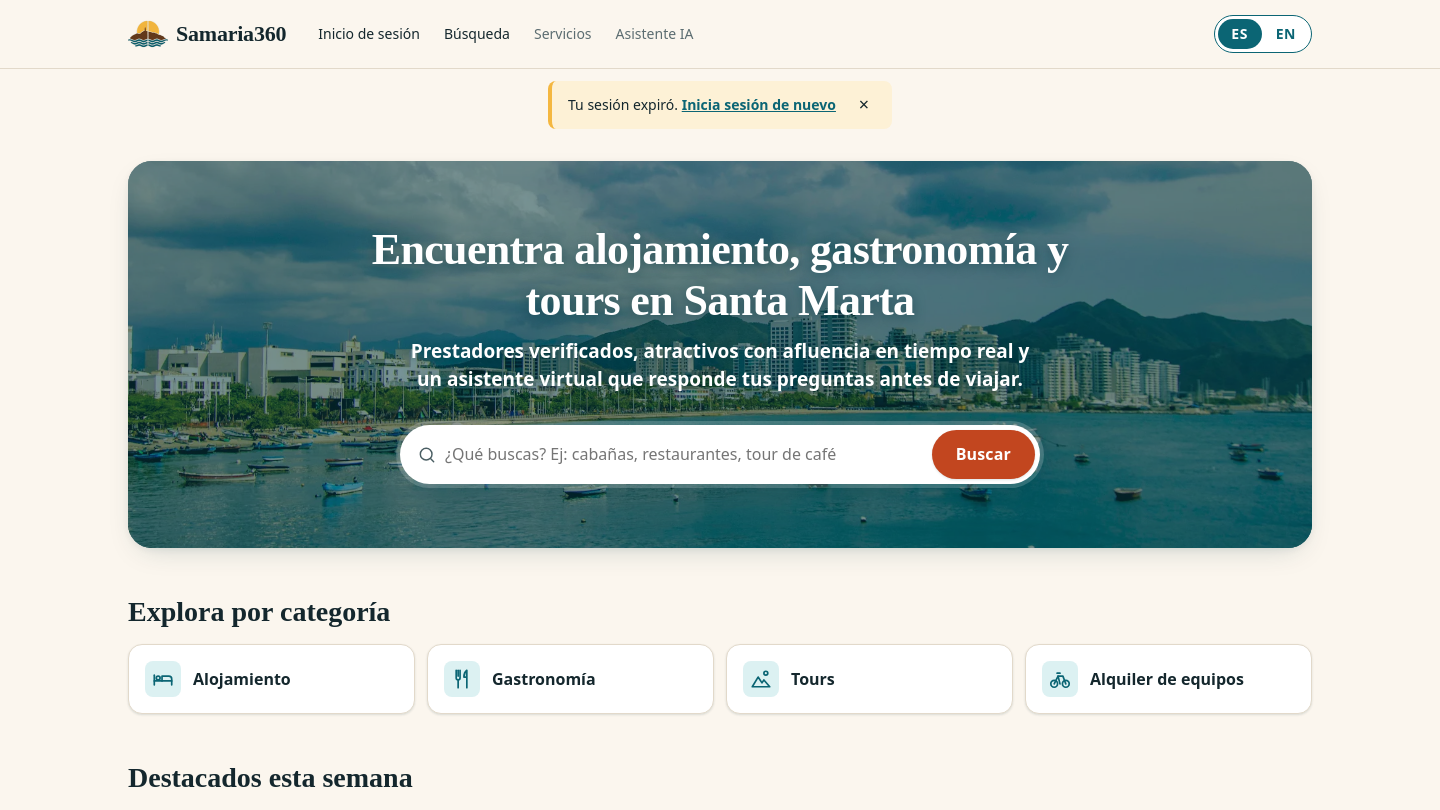
Test case: Sesión › un 401 de /me en una página pública cierra la sesión y avisa sin sacar al usuario
Expected: the text "Tu sesión expiró. Inicia sesión de nuevo ×" is shown, [548,81,892,129]
Step 1. Click the button named "Cerrar aviso" → click(864, 105), box [848,89,880,121]
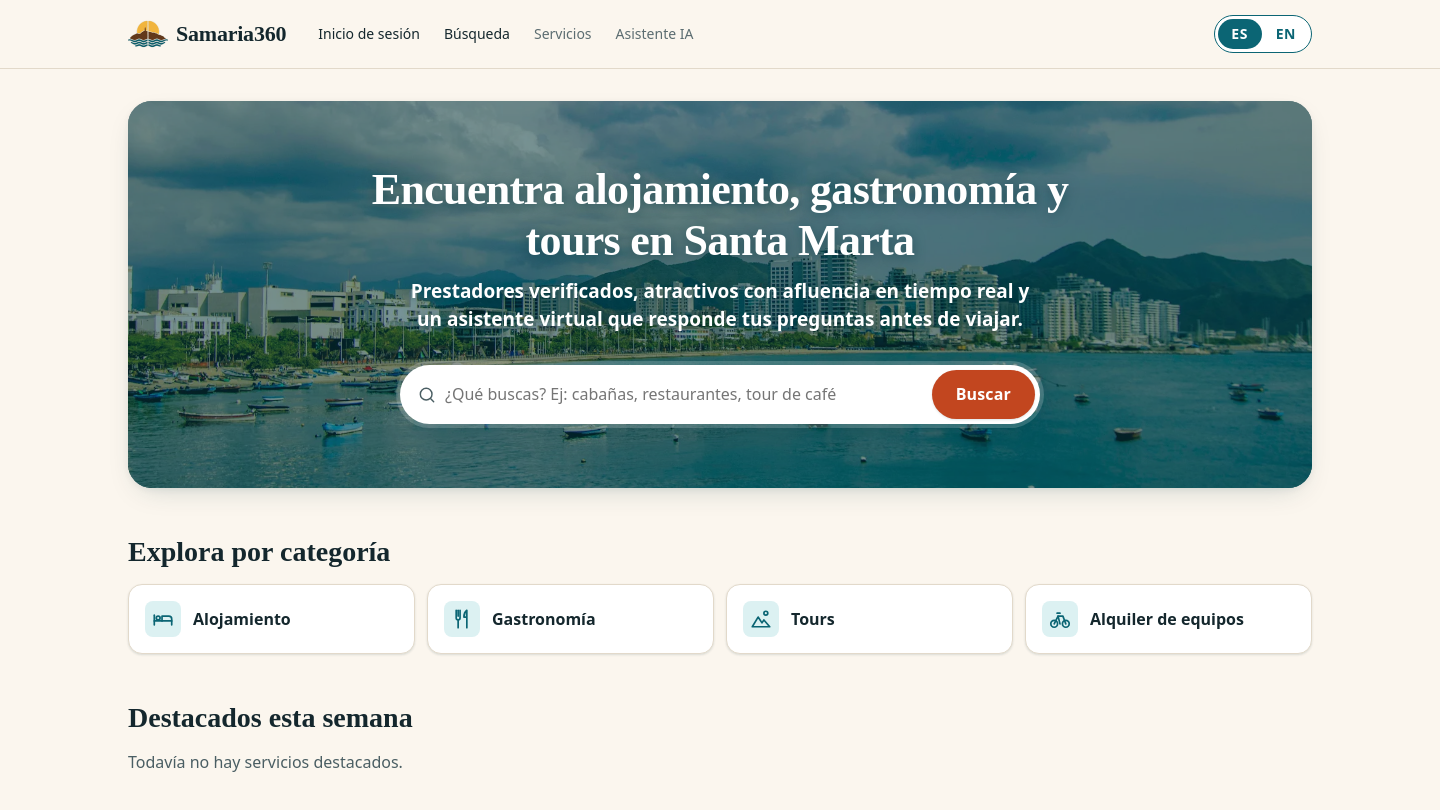
Result: the text "Tu sesión expiró." is gone
